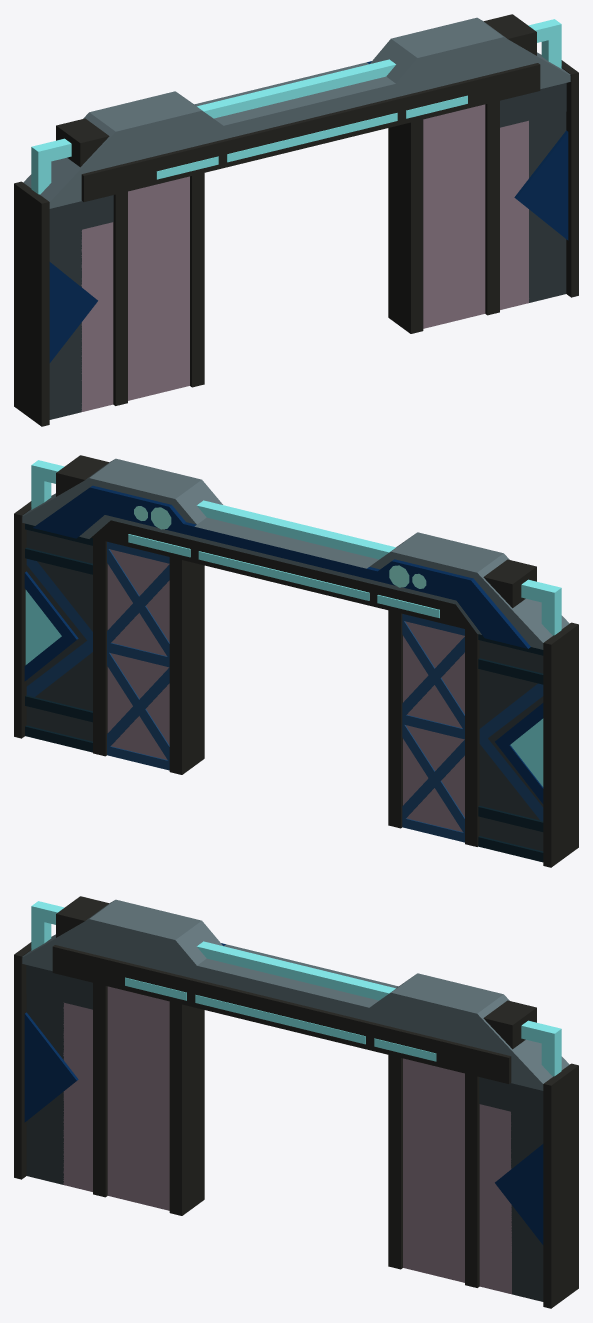
Rendered from congmap1-5.fbx.
3 renders of one model, top to bottom at view 1: azimuth 30°, elevation 25°; view 2: azimuth 150°, elevation 25°; view 3: azimuth 330°, elevation 25°, orthographic.
Parts seen in each view (by area): view 1: Cube.015; view 2: Cube.015; view 3: Cube.015.
Boxes of the visible parts, bbox=[...] form: Cube.015: bbox=[14, 14, 578, 426]; Cube.015: bbox=[14, 455, 578, 867]; Cube.015: bbox=[14, 896, 578, 1308].
Size of the model in its own units: 9.96 by 4.9 by 1.04.
